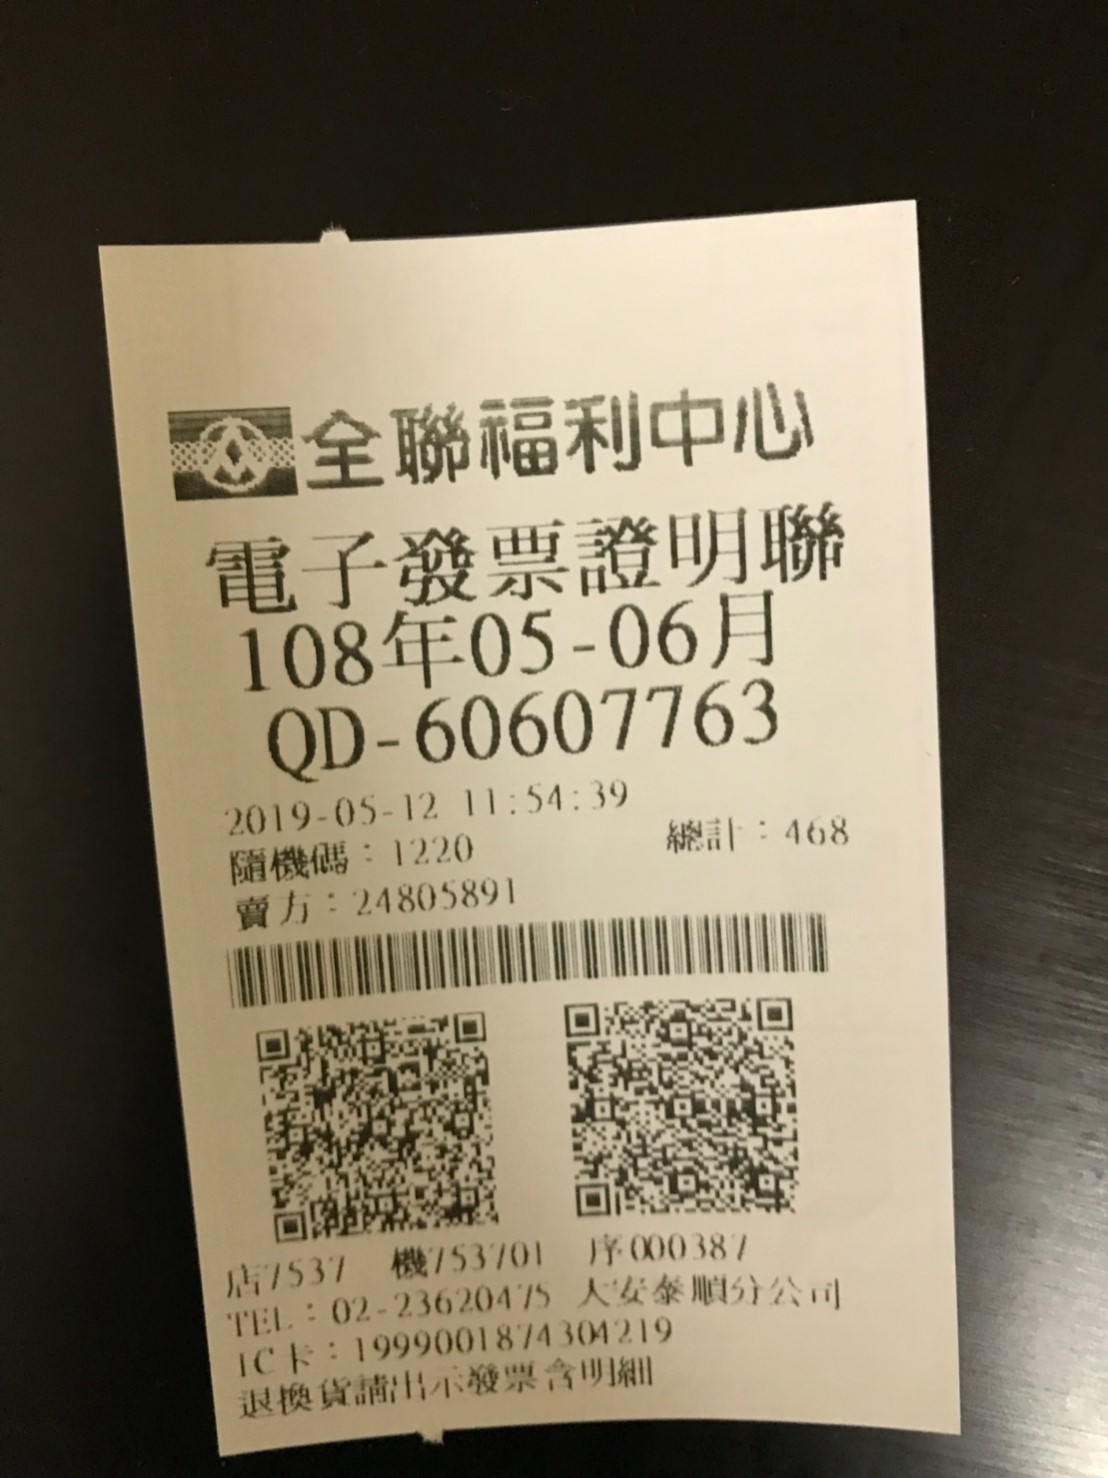Date_New: (230, 585, 783, 690)
Number_New: (411, 678, 783, 766)
